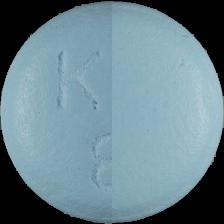53808-0278: (0, 0, 224, 224)
